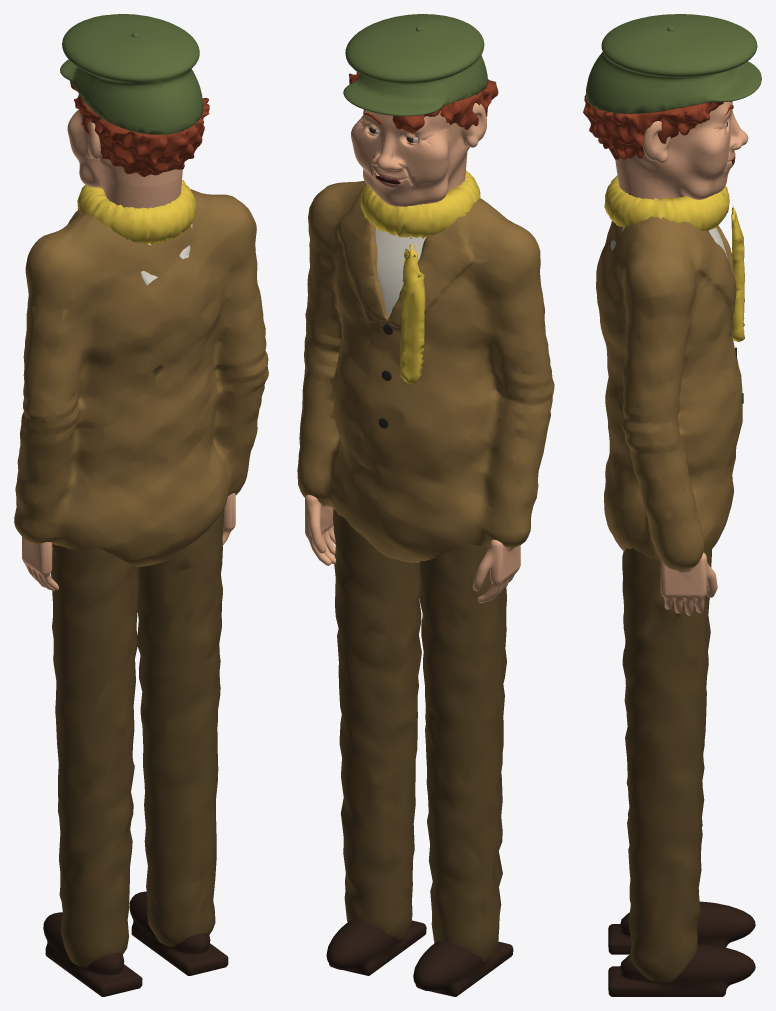
Rendered from dora.fbx.
The picture shows the model from 3 angles, left to right: view 1: azimuth 30°, elevation 25°; view 2: azimuth 150°, elevation 25°; view 3: azimuth 270°, elevation 25°; orthographic projection.
Visible parts, largest first — view 1: Body, Hat, Head, HandR; view 2: Body, Hat, Head, HandR, HandL; view 3: Body, Hat, Head, HandL.
Part boxes in pixels (left/top/right/bottom): Body: left=14, top=180, right=268, bottom=996; Hat: left=60, top=14, right=203, bottom=134; Head: left=67, top=81, right=209, bottom=208; HandR: left=22, top=537, right=58, bottom=591; Body: left=297, top=170, right=554, bottom=996; Hat: left=343, top=14, right=488, bottom=116; Head: left=349, top=72, right=498, bottom=206; HandR: left=472, top=539, right=520, bottom=603; HandL: left=305, top=494, right=335, bottom=565; Body: left=596, top=175, right=755, bottom=996; Hat: left=586, top=14, right=761, bottom=113; Head: left=583, top=94, right=748, bottom=200; HandL: left=660, top=552, right=717, bottom=615.
Bounding box in the file's own units: 0.4757 × 1.76 × 0.3039.
